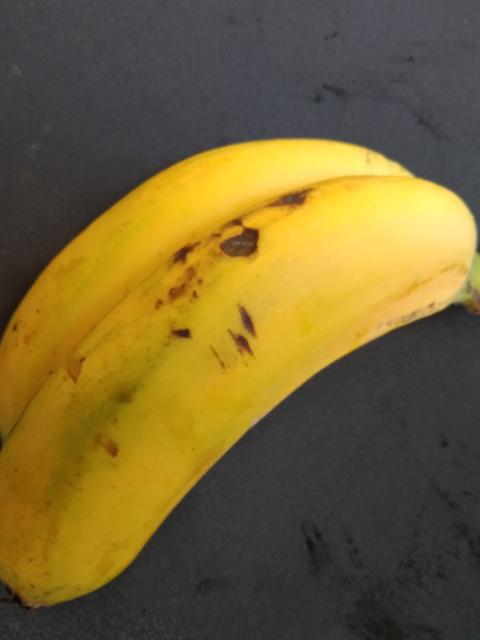ripe: (0, 194, 458, 639)
